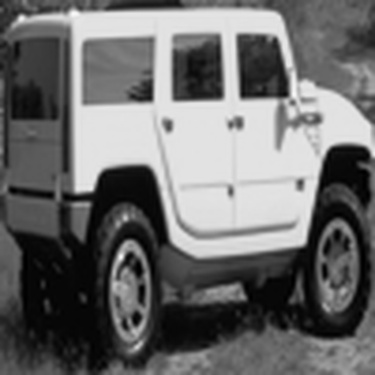car: (2, 8, 362, 344)
